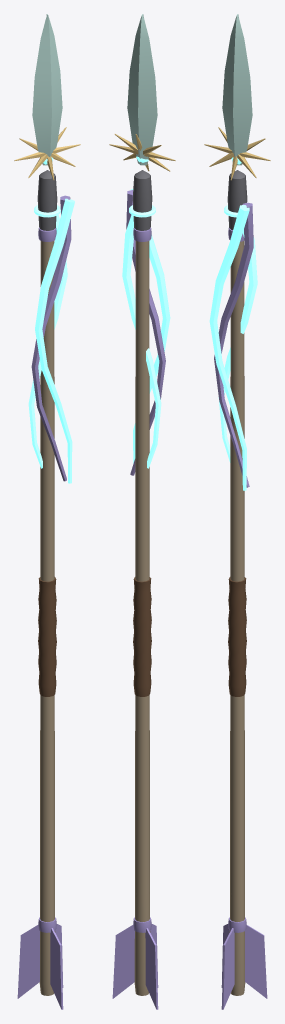
File: fa_auroras_reach.glb
3 renders of one model, left to right at view 1: azimuth 30°, elevation 25°; view 2: azimuth 150°, elevation 25°; view 3: azimuth 330°, elevation 25°, orthographic.
Visible parts, largest first — view 1: fa_auroras_reach; view 2: fa_auroras_reach; view 3: fa_auroras_reach.
Part boxes in pixels (x1,y1,x2,y2): fa_auroras_reach: (14,14,80,1009); fa_auroras_reach: (109,14,175,1009); fa_auroras_reach: (204,14,270,1009).
Bounding box in the file's own units: 0.12 × 1.71 × 0.0718.
